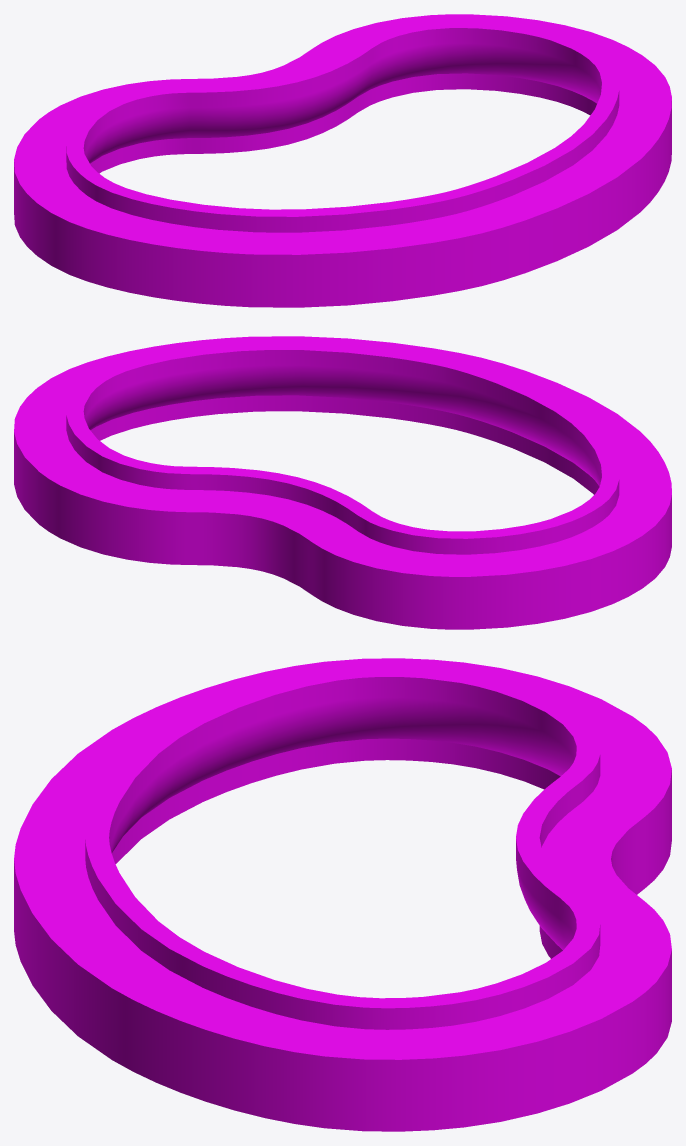
The model's file is pads-optional-extention.fbx.
The picture shows the model from 3 angles, top to bottom: view 1: azimuth 30°, elevation 25°; view 2: azimuth 150°, elevation 25°; view 3: azimuth 270°, elevation 25°; orthographic projection. The views are drawn at different scales.
Parts seen in each view (by area): view 1: pads-optional-extention; view 2: pads-optional-extention; view 3: pads-optional-extention.
Part boxes in pixels (x1,y1,x2,y2): pads-optional-extention: [14, 14, 671, 307]; pads-optional-extention: [14, 336, 671, 629]; pads-optional-extention: [14, 658, 671, 1131].
Bounding box in the file's own units: 120 × 13 × 83.04.
